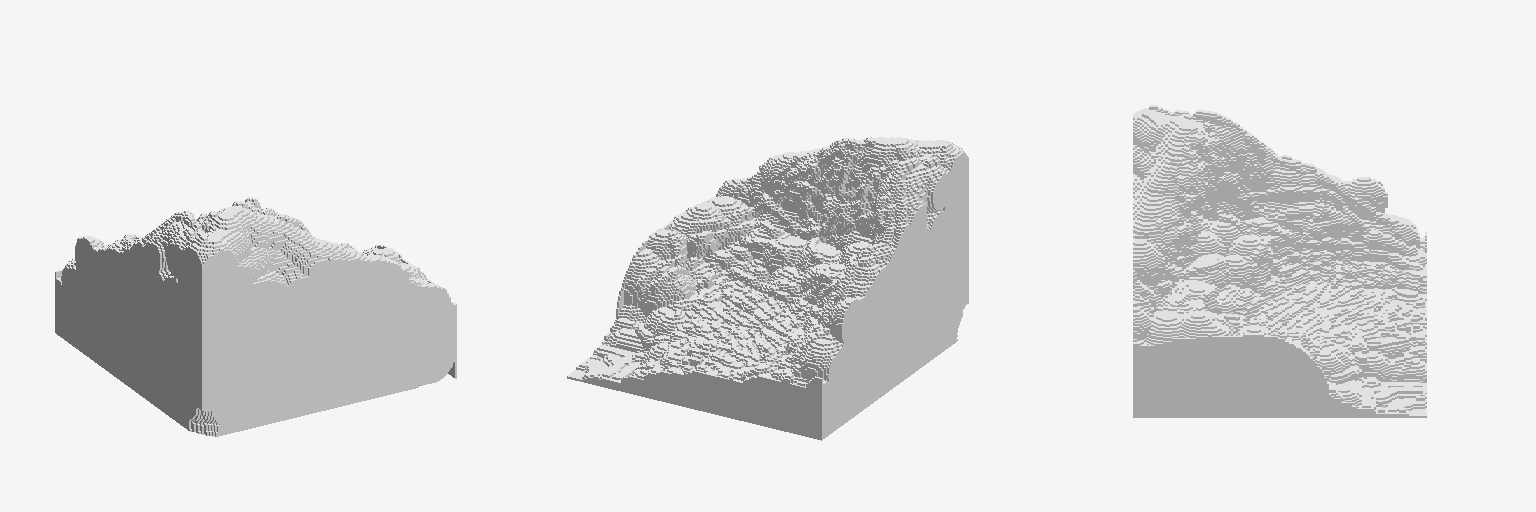
Rendered from Border10.obj.
3 renders of one model, left to right at view 1: azimuth 30°, elevation 25°; view 2: azimuth 150°, elevation 25°; view 3: azimuth 270°, elevation 25°, orthographic.
Bounding box in the file's own units: 126 × 94 × 126.